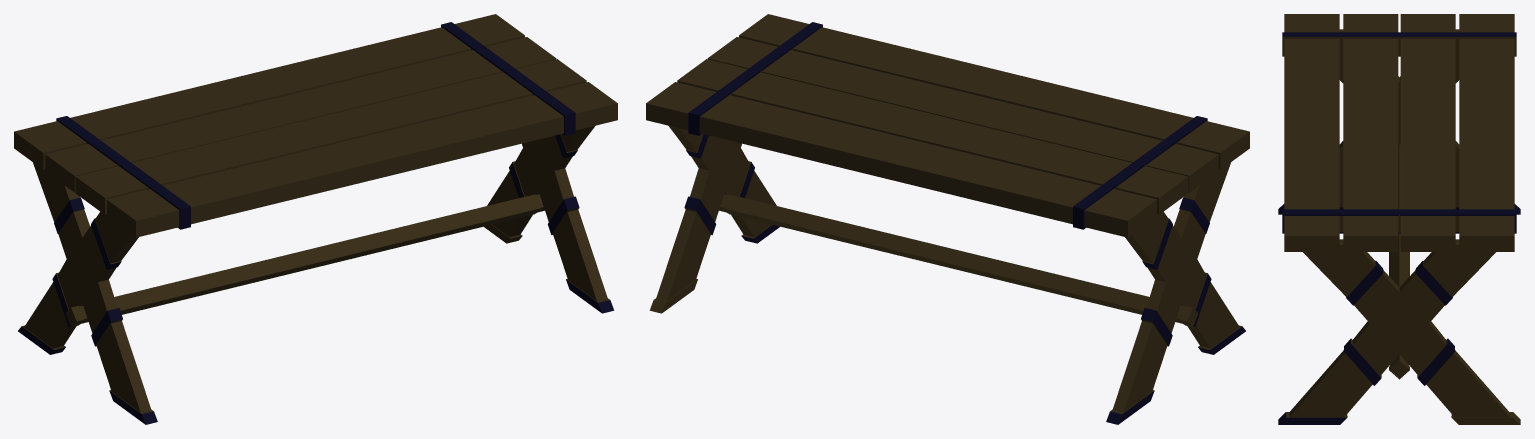
The model's file is Tabel.glb.
3 renders of one model, left to right at view 1: azimuth 30°, elevation 25°; view 2: azimuth 150°, elevation 25°; view 3: azimuth 270°, elevation 25°, orthographic. The views are drawn at different scales.
Parts seen in each view (by area): view 1: Tabel; view 2: Tabel; view 3: Tabel.
Boxes of the visible parts, box(x1,y1,x2,y2) form: Tabel: box(14, 14, 617, 424); Tabel: box(646, 14, 1249, 424); Tabel: box(1278, 14, 1520, 424).
Bounding box in the file's own units: 17.79 × 7.13 × 8.06.
